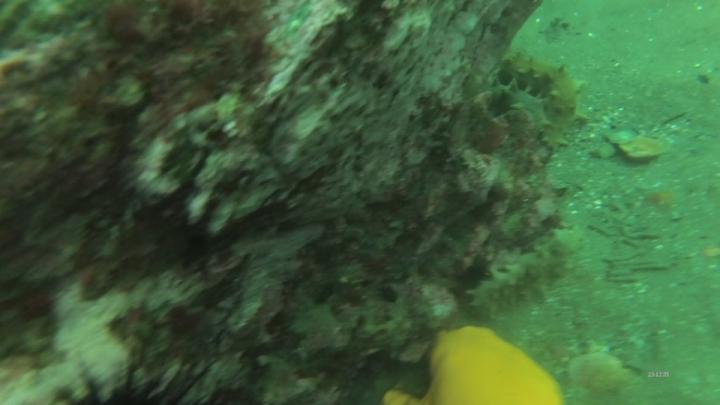holothurian: (474, 218, 588, 324), (501, 47, 590, 157)
